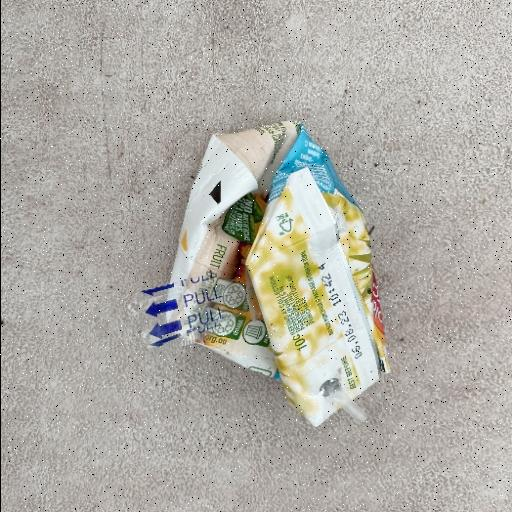Cardboard: (139, 118, 391, 428), (241, 164, 389, 428)
